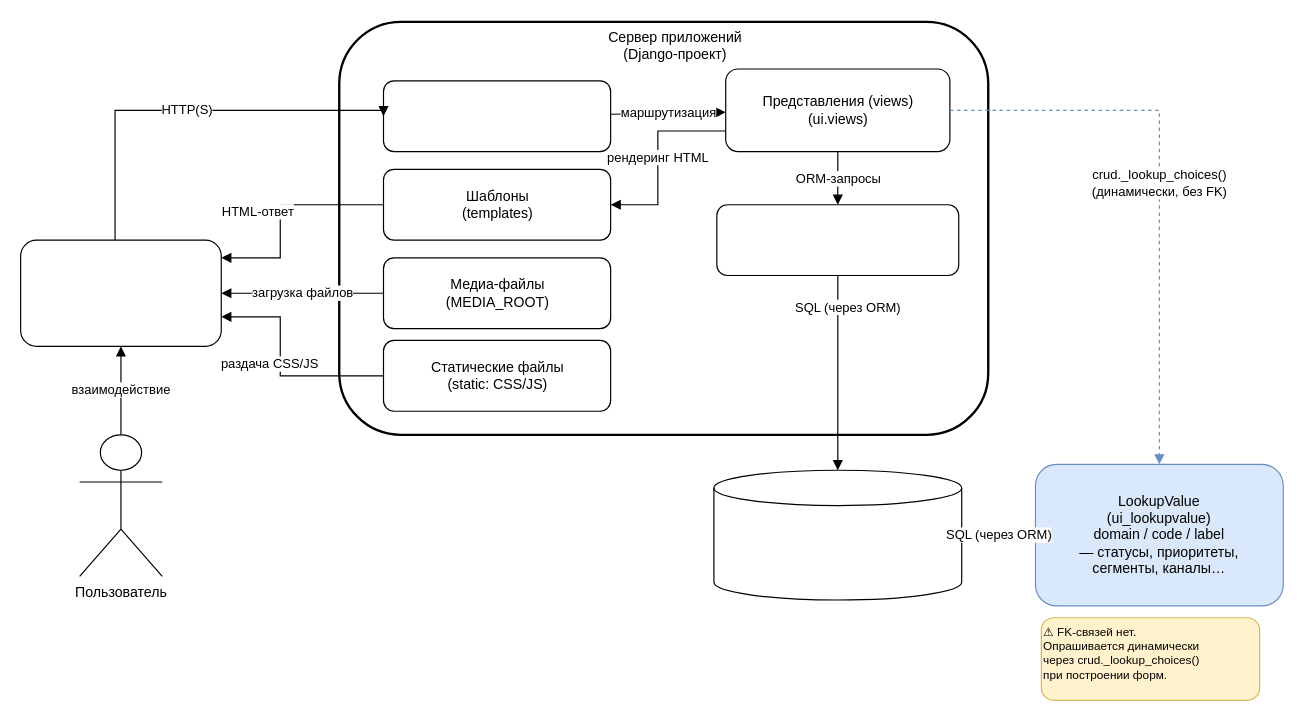
Some shapes in this 1304 by 721 pixel diagram are drawn without their labels. Here are the shapes that lost their labels. From the top down, the centre of each, then its label:
At pixel 496 116: "URLConf / Router (hotelmate.urls, ui.urls)".
At pixel 837 240: "Модели (ORM) (ui.models)".
At pixel 120 292: "Браузер (клиент)".
At pixel 837 534: "База данных (SQLite: db.sqlite3)".
